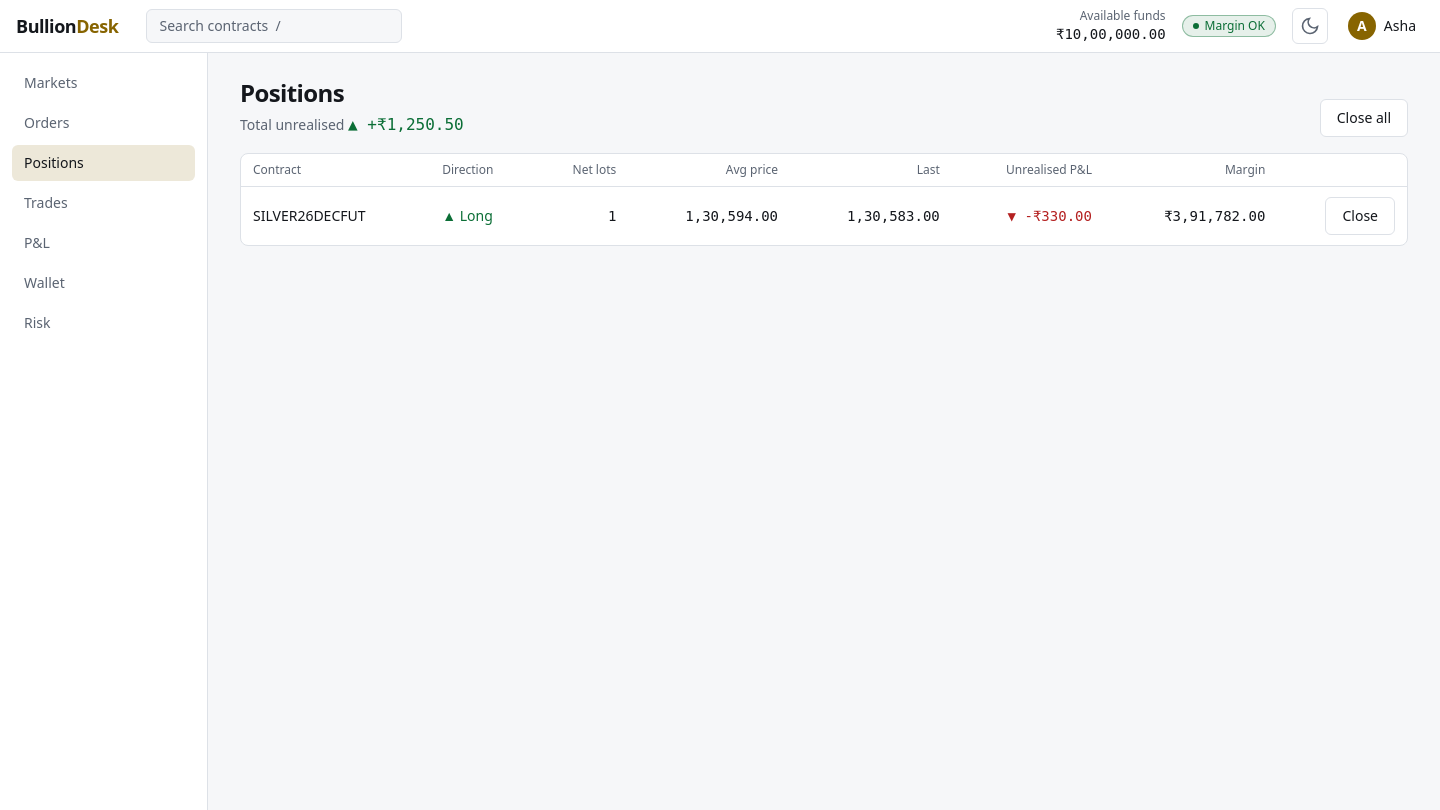
it: positions page › keeps the dialog open with the reason when the close fails
What coordinates should you click on to do the following:
click the button with aria-label "Close position SILVER26DECFUT"
I would click on:
 (1360, 216)
Its box is [1326,197,1395,235].
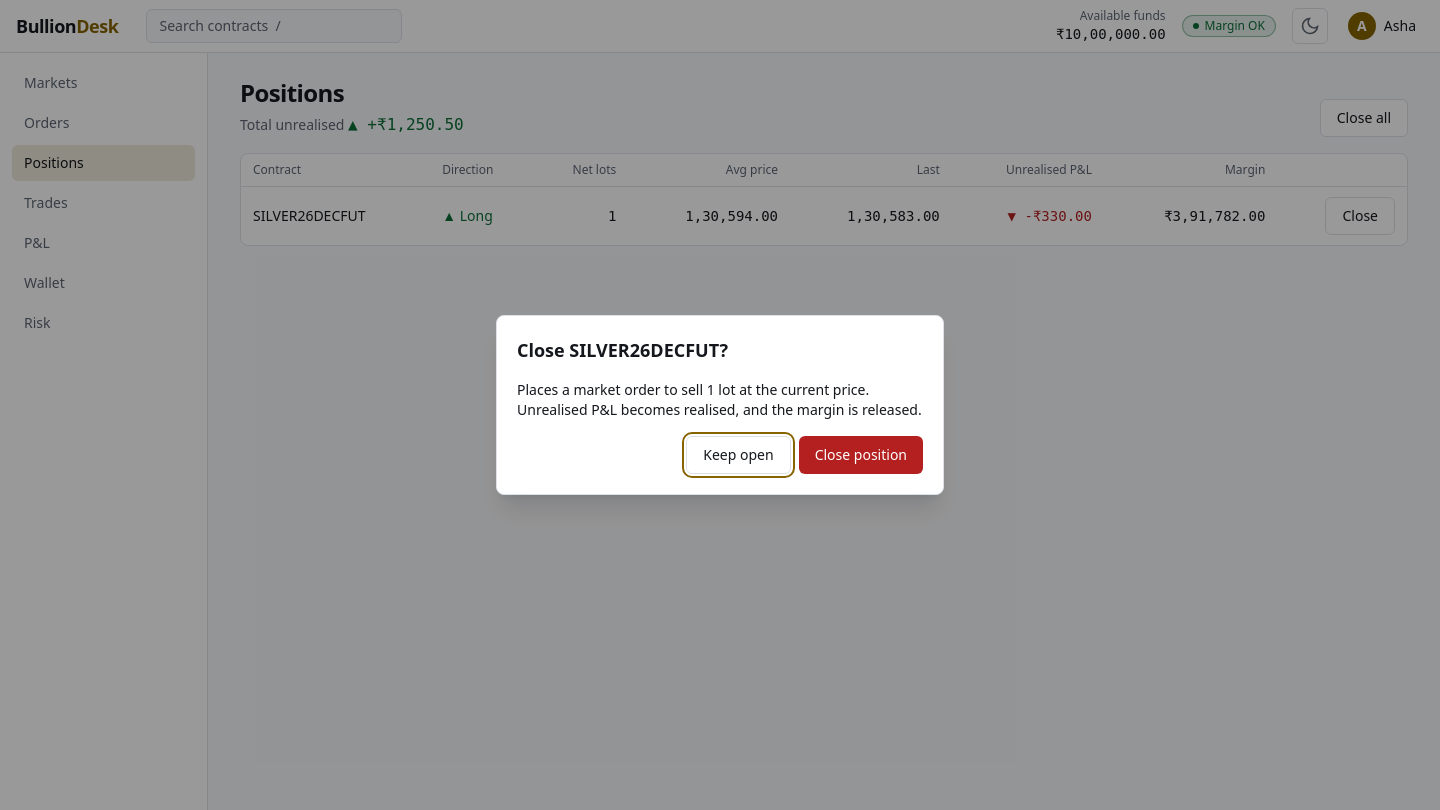
What coordinates should you click on to do the following:
click the button "Close position"
I would click on:
 (861, 455)
Its box is [799,436,923,474].
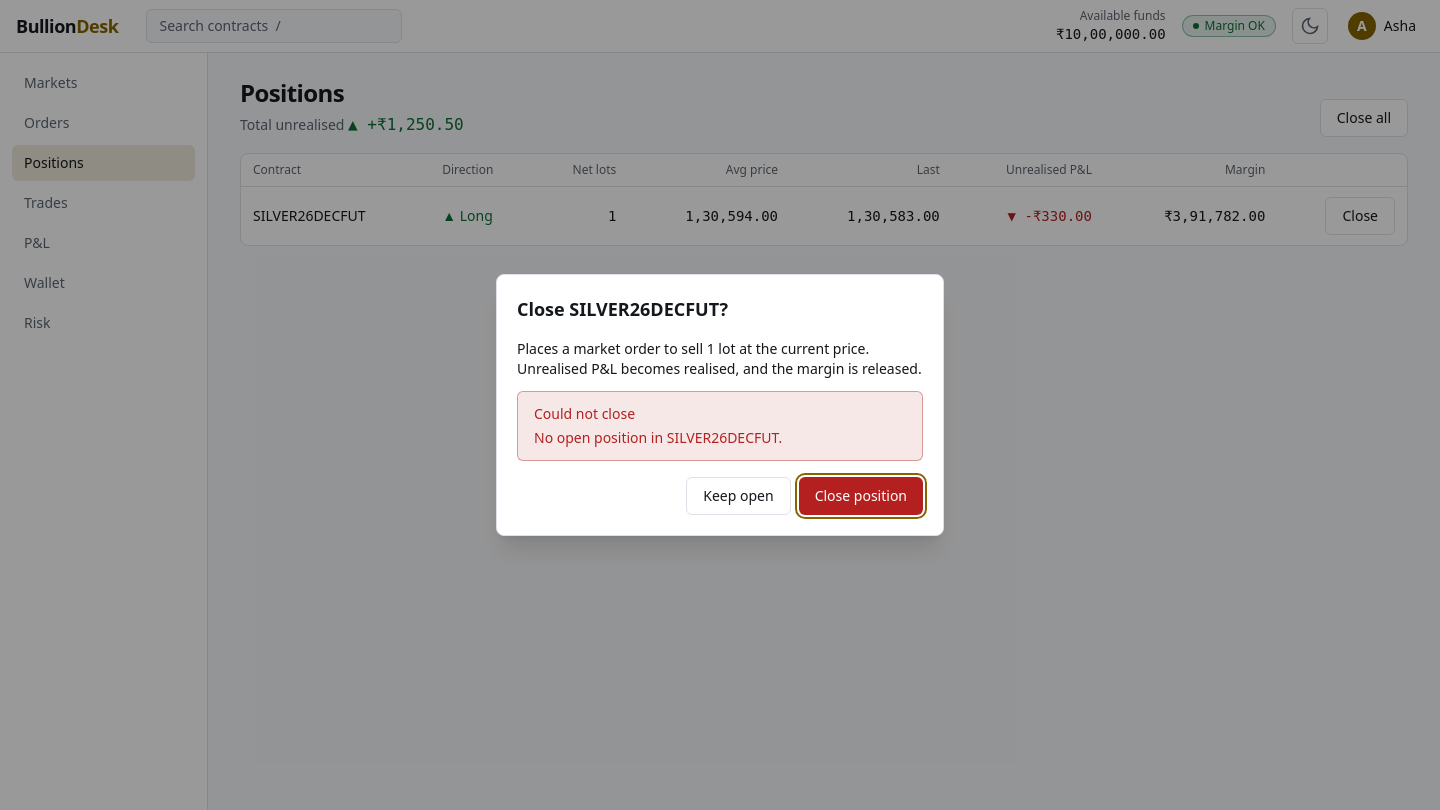
Expected: the message shows "No open position in SILVER26DECFUT.", [534,428,782,447]
